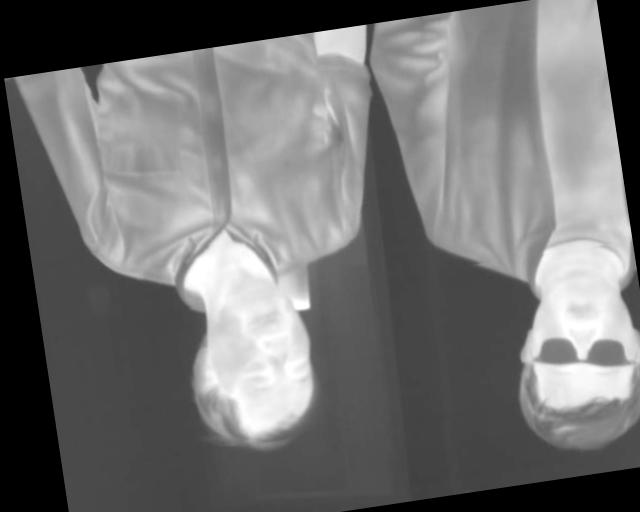face: (177, 271, 328, 461), (501, 264, 640, 460)
